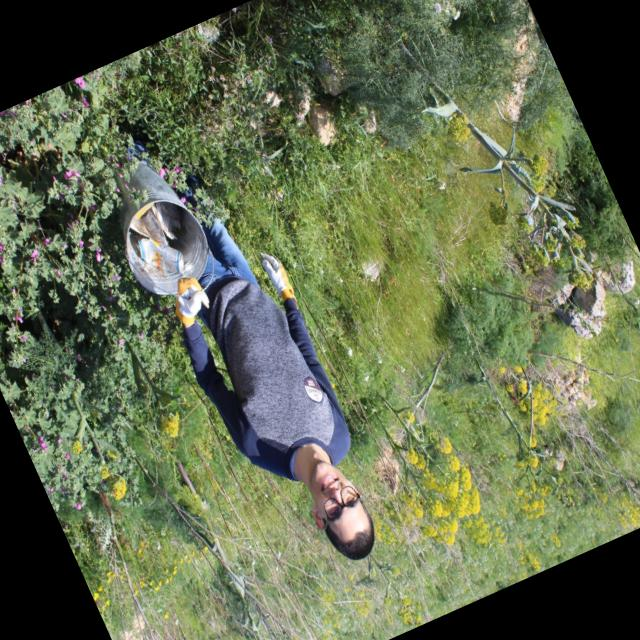Bottle: (141, 209, 170, 246), (157, 202, 182, 220)
Can: (136, 238, 184, 274), (135, 200, 156, 220)
Styrofoam piece: (152, 203, 181, 240), (131, 218, 154, 240)
